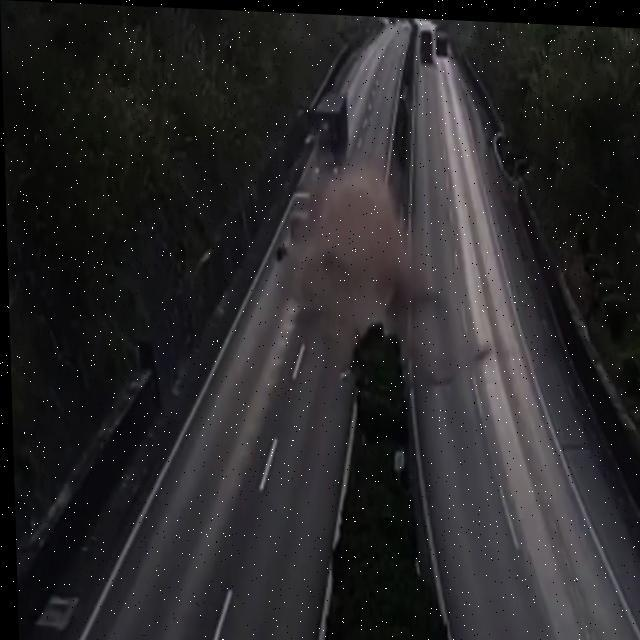multiple_accident: (253, 182, 460, 374)
